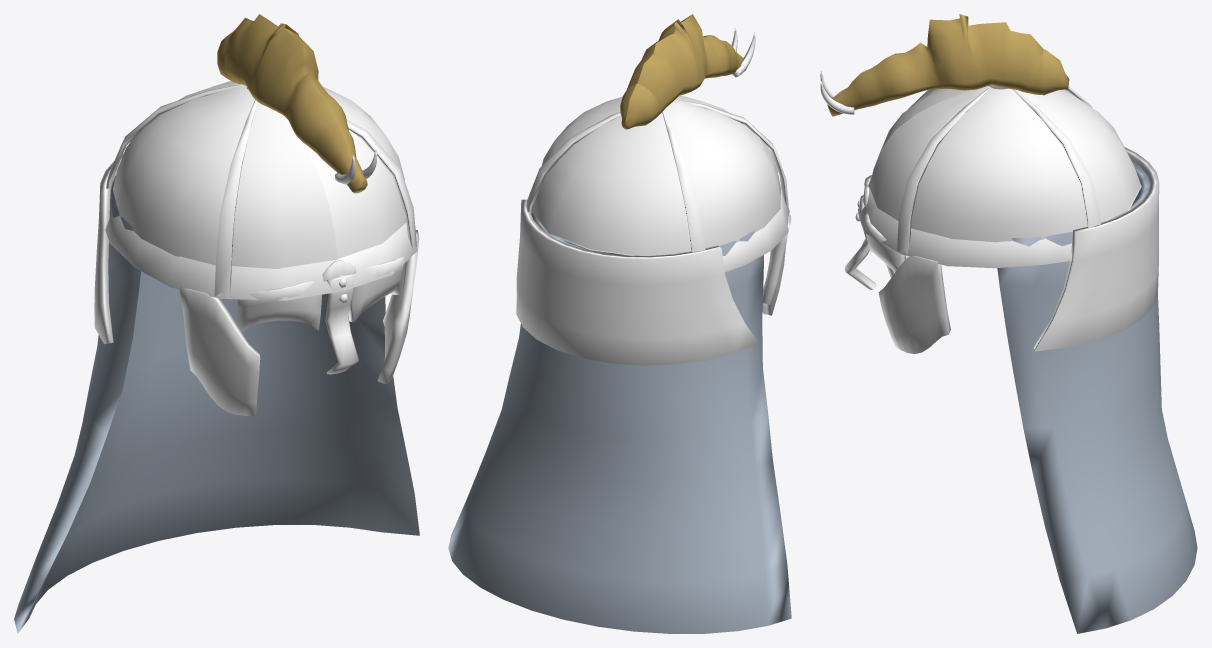
File: helm-huscarl-boar.glb
The picture shows the model from 3 angles, left to right: view 1: azimuth 30°, elevation 25°; view 2: azimuth 150°, elevation 25°; view 3: azimuth 270°, elevation 25°; orthographic projection. The views are drawn at different scales.
Visible parts, largest first — view 1: helm-huscarl-boar; view 2: helm-huscarl-boar; view 3: helm-huscarl-boar.
Part boxes in pixels (bbox=[...]): helm-huscarl-boar: bbox=[14, 14, 419, 633]; helm-huscarl-boar: bbox=[448, 14, 791, 633]; helm-huscarl-boar: bbox=[820, 14, 1197, 633].
Bounding box in the file's own units: 0.3753 × 0.5437 × 0.348.
